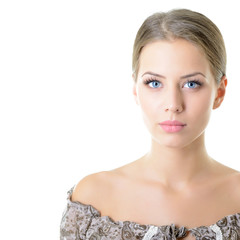teen: (140, 12, 227, 155)
